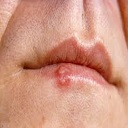Cold Sore: (52, 64, 72, 87)
